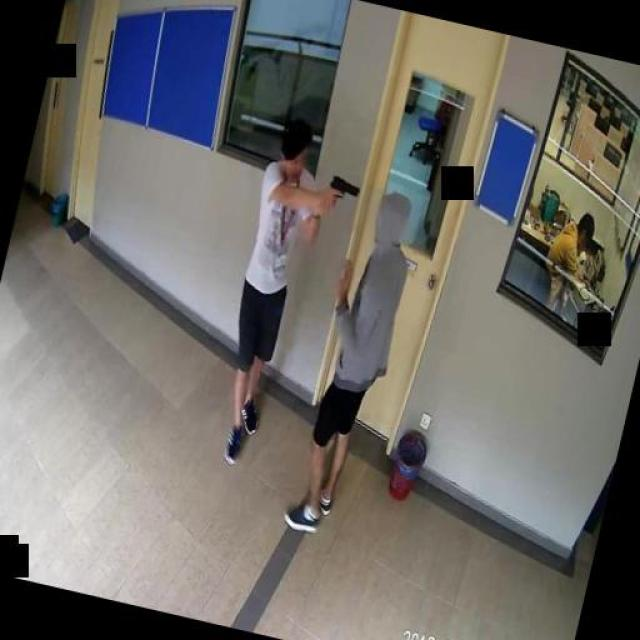gun: (322, 172, 360, 216)
